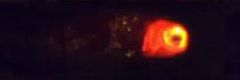keyhole: (168, 34, 184, 48)
